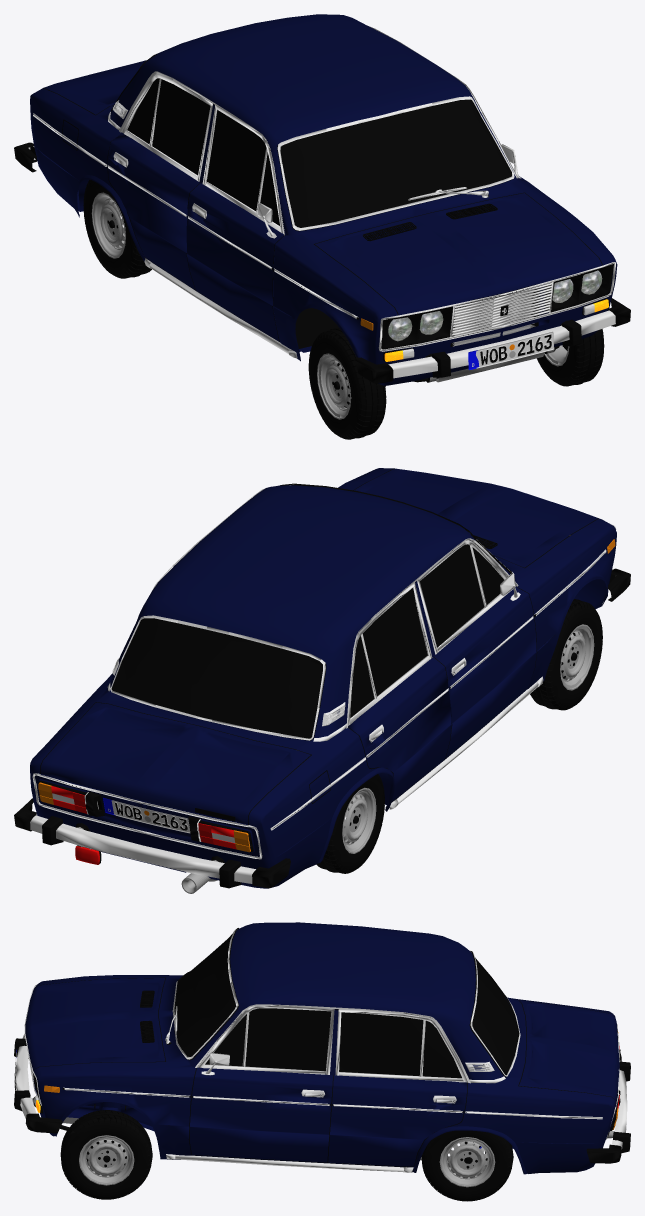
Rendered from lada_2106.glb.
3 views of the same model, one above another, from view 1: azimuth 30°, elevation 25°; view 2: azimuth 150°, elevation 25°; view 3: azimuth 270°, elevation 25° (orthographic). The views are drawn at different scales.
Visible parts, largest first — view 1: Body, W_FL, W_FR, W_RL; view 2: Body, W_FL, L_TAIL_N, W_RL, L_TAIL_P; view 3: Body, W_FR, W_RR.
Boxes of the visible parts, x1,y1,x2,y2 form: Body: [14, 14, 630, 439]; W_FL: [317, 329, 373, 438]; W_FR: [537, 336, 591, 384]; W_RL: [91, 192, 144, 277]; Body: [14, 468, 630, 893]; W_FL: [539, 600, 594, 709]; L_TAIL_N: [198, 823, 250, 852]; W_RL: [323, 787, 376, 872]; L_TAIL_P: [38, 782, 87, 813]; Body: [14, 922, 630, 1201]; W_FR: [60, 1114, 152, 1185]; W_RR: [421, 1137, 513, 1187].
Size of the model in its own units: 1.71 by 1.49 by 4.17.
Materials: 89 (1 with a texture image).
